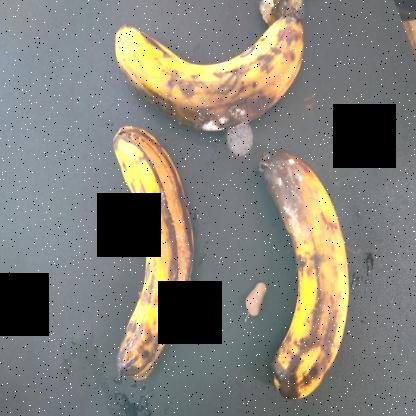rotten: (66, 98, 207, 388), (109, 11, 310, 143), (250, 149, 346, 415)
